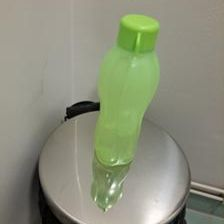bottle: (89, 13, 165, 166)
